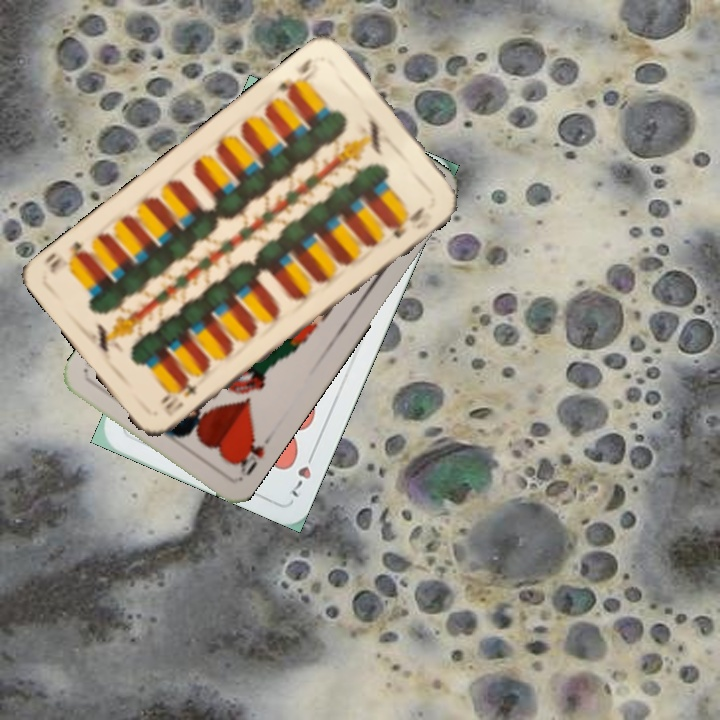E10: (273, 54, 317, 100), (160, 380, 201, 419)
H7: (287, 445, 318, 500)
HO: (231, 430, 275, 481)
